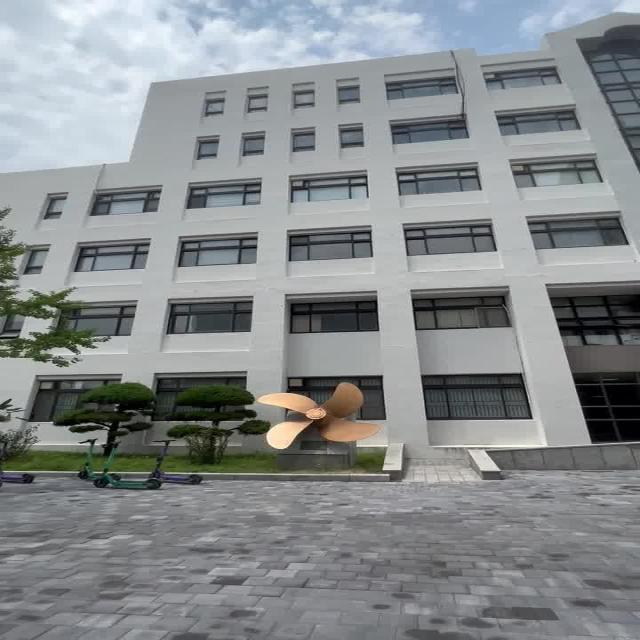building: (119, 23, 640, 447)
